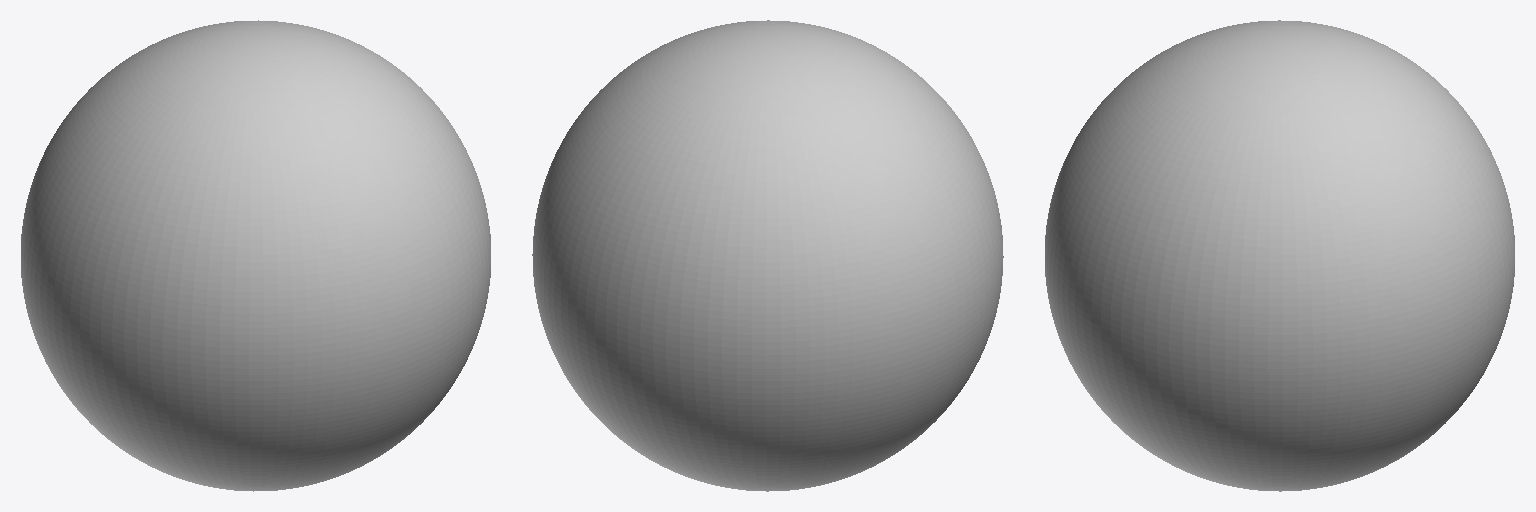
The model's file is Moon.obj.
3 renders of one model, left to right at view 1: azimuth 30°, elevation 25°; view 2: azimuth 150°, elevation 25°; view 3: azimuth 270°, elevation 25°, orthographic.
Parts seen in each view (by area): view 1: Moon_Sphere_Mesh_Moon; view 2: Moon_Sphere_Mesh_Moon; view 3: Moon_Sphere_Mesh_Moon.
Boxes of the visible parts, box(x1,y1,x2,y2) form: Moon_Sphere_Mesh_Moon: box(21, 20, 490, 491); Moon_Sphere_Mesh_Moon: box(532, 20, 1003, 491); Moon_Sphere_Mesh_Moon: box(1045, 20, 1514, 491).
Size of the model in its own units: 20 by 20 by 20.